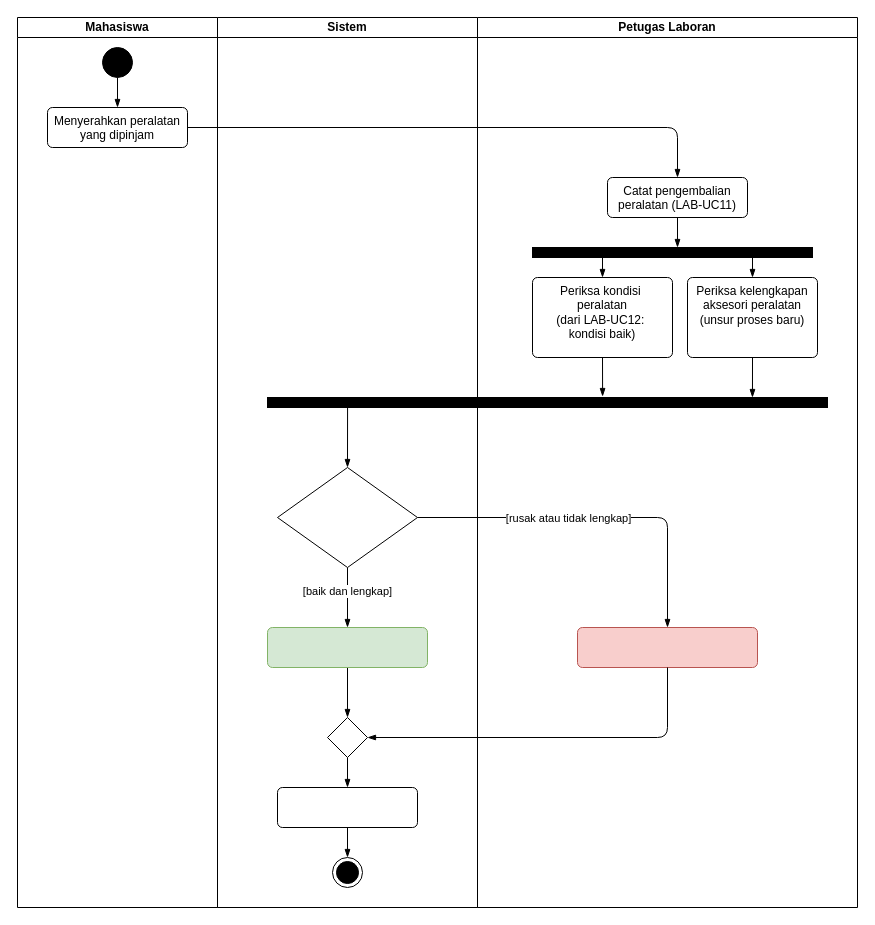
This 875x925 diagram has some shape labels left out. Each missing label, with the centre of its shape:
Catat kerusakan atau kekurangan jadwalkan perbaikan: (667,647)
kondisi peralatan baik dan lengkap?: (347,517)
Menutup transaksi peminjaman: (347,807)
Perbarui status peralatan menjadi tersedia: (347,647)
